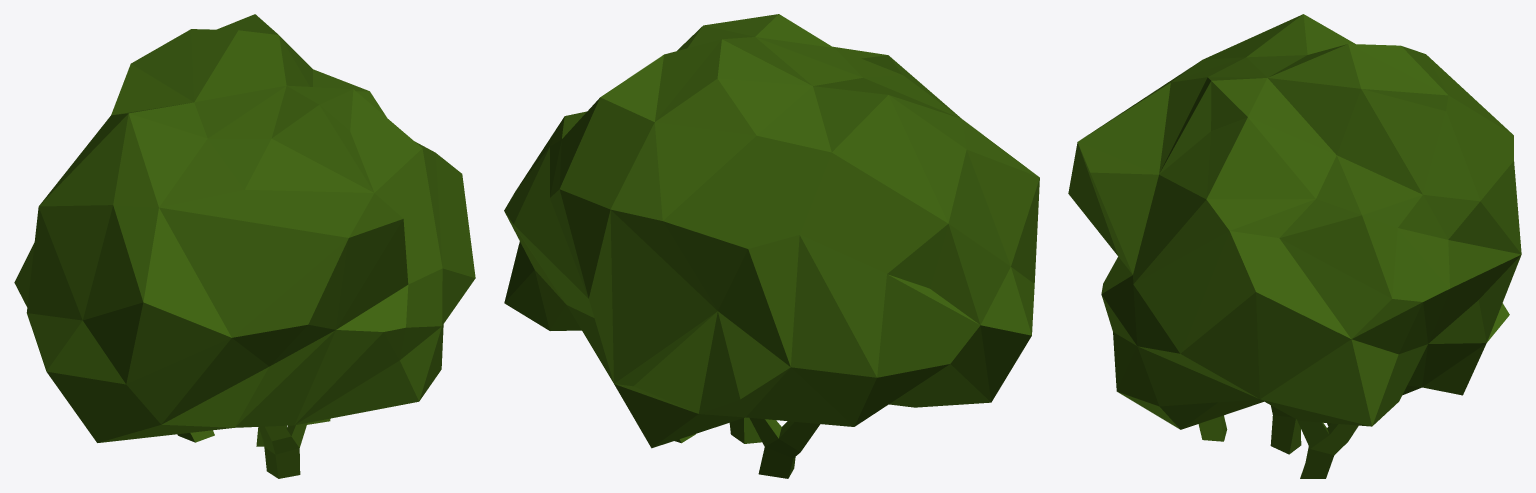
Rendered from bush_average.076_lev3.glb.
3 renders of one model, left to right at view 1: azimuth 30°, elevation 25°; view 2: azimuth 150°, elevation 25°; view 3: azimuth 270°, elevation 25°, orthographic. The views are drawn at different scales.
Parts seen in each view (by area): view 1: bush_average.076_lev3; view 2: bush_average.076_lev3; view 3: bush_average.076_lev3.
Boxes of the visible parts, x1,y1,x2,y2 form: bush_average.076_lev3: (14,14,475,478); bush_average.076_lev3: (504,14,1039,478); bush_average.076_lev3: (1068,14,1521,478).
Size of the model in its own units: 0.7661 by 0.6683 by 0.6851.
